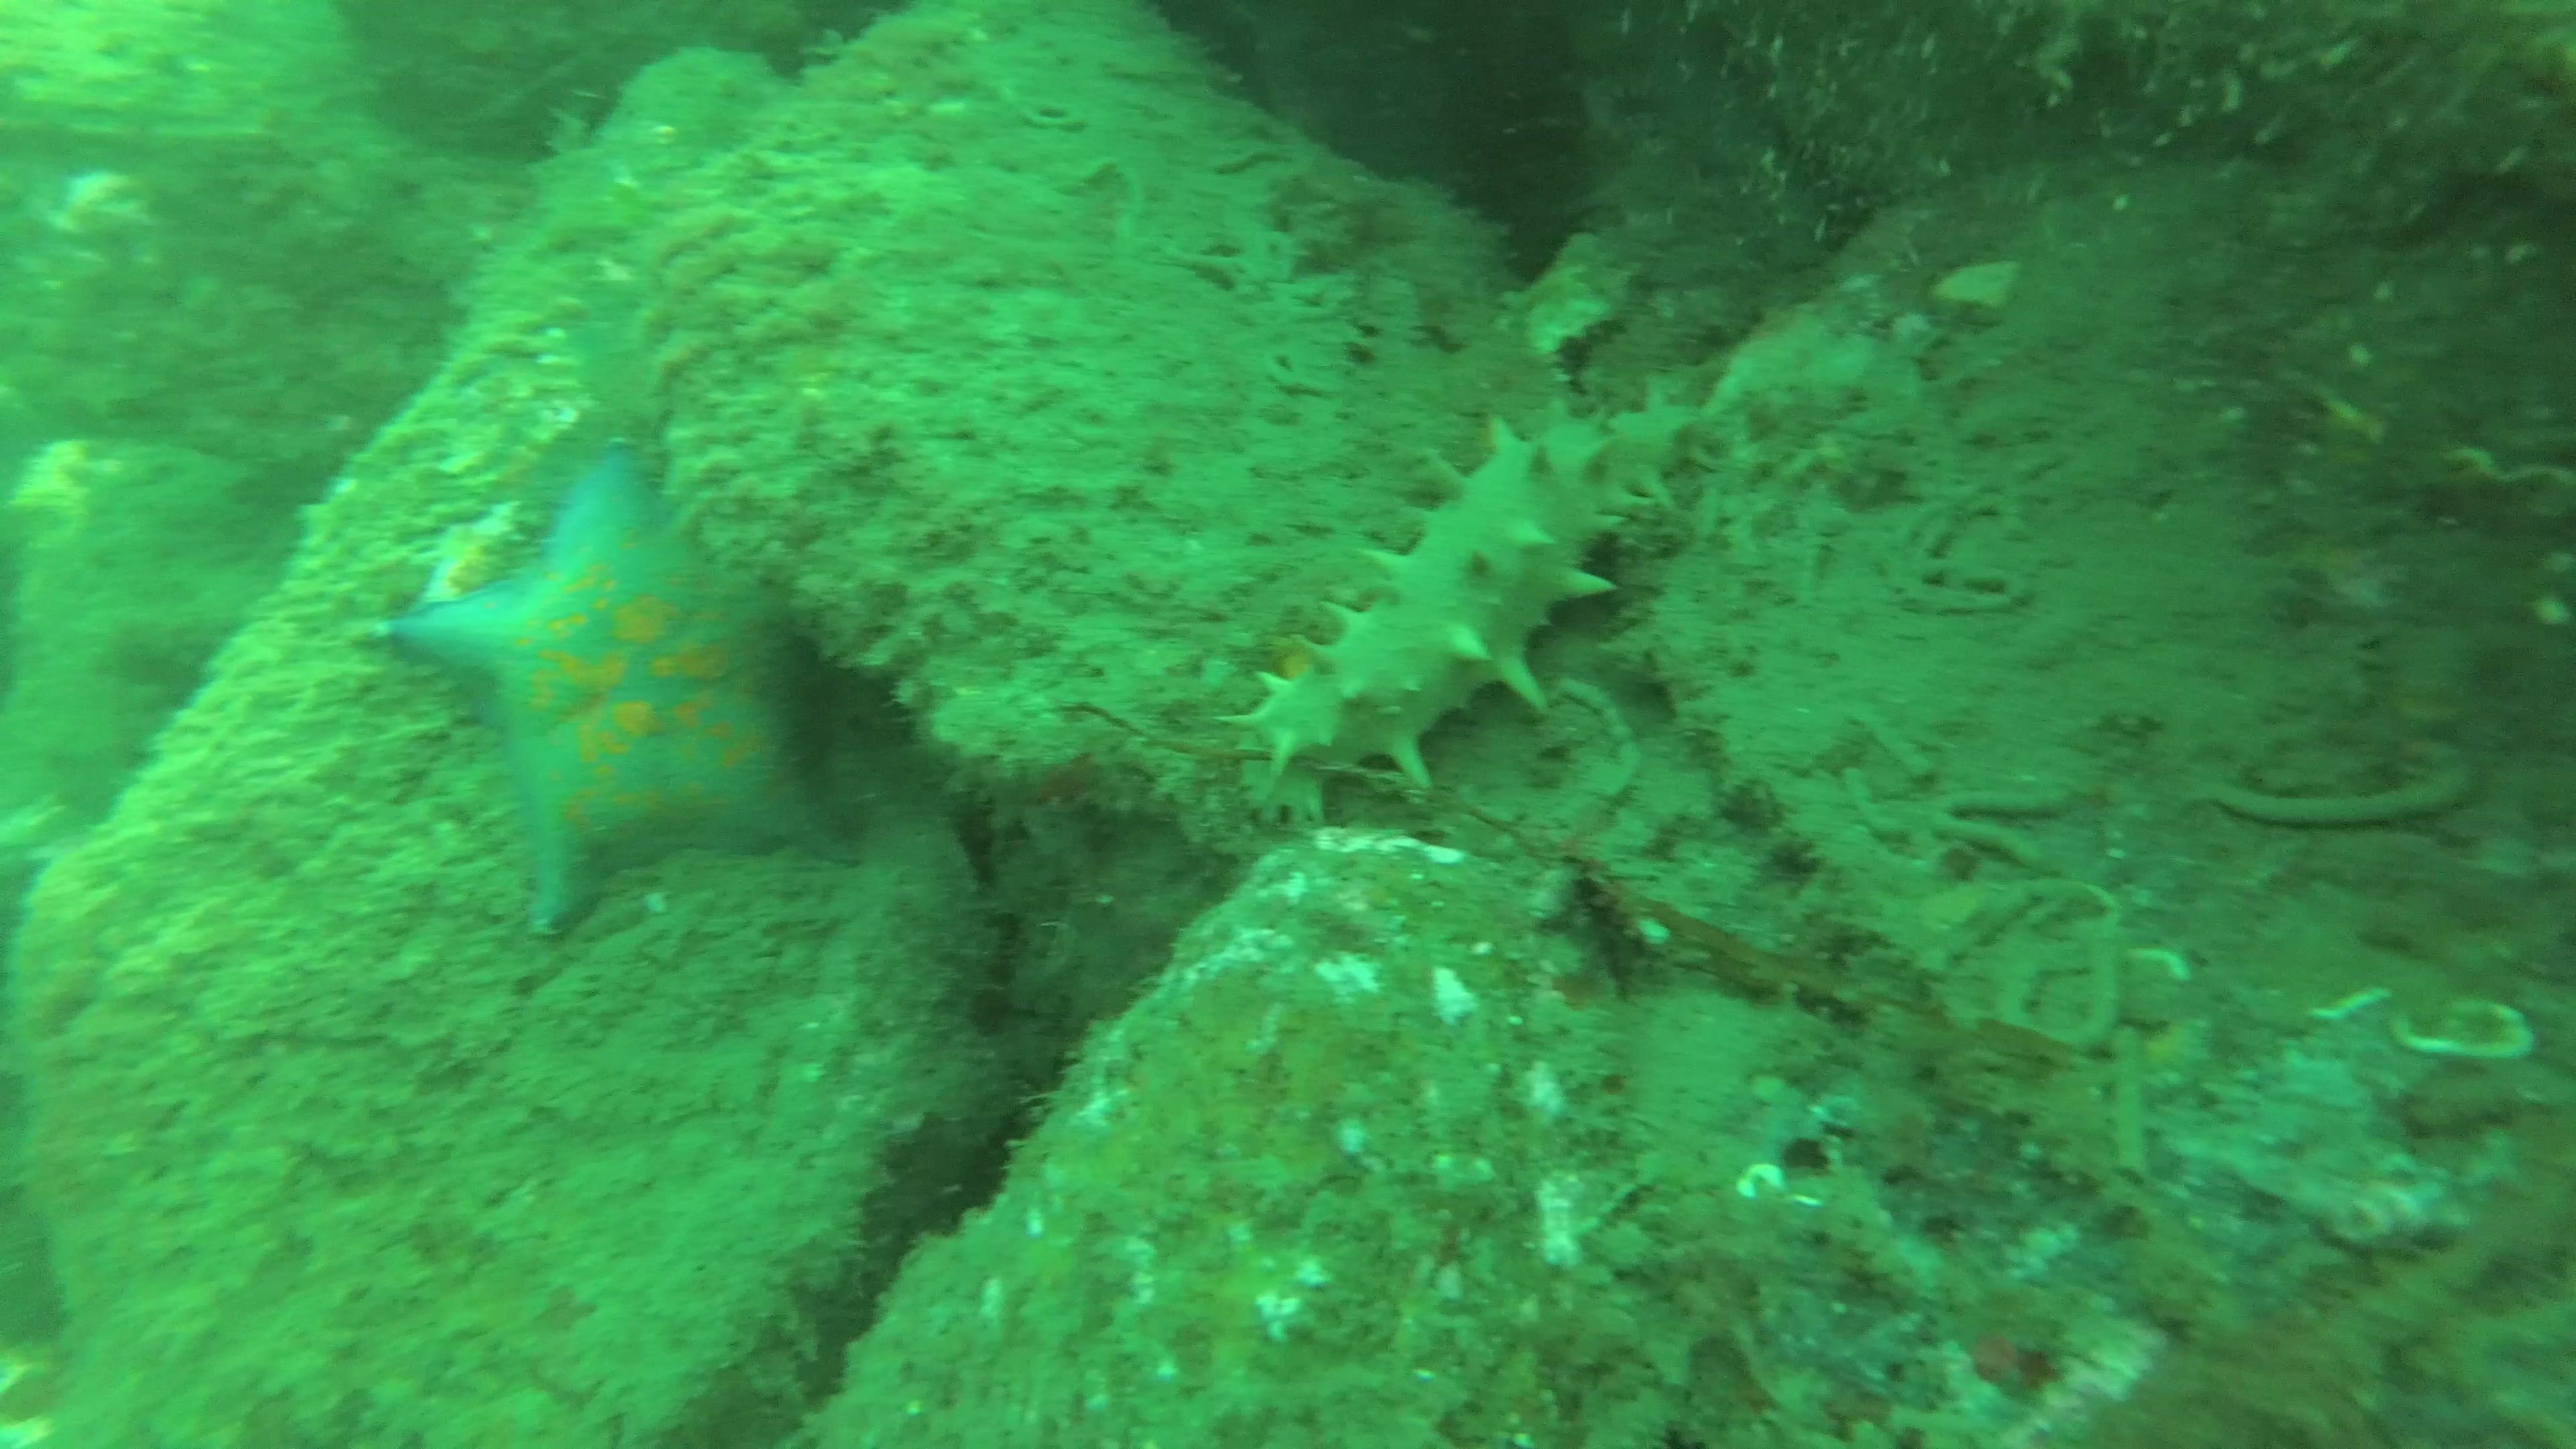holothurian: (1210, 377, 1723, 798)
starfish: (359, 425, 869, 941)
